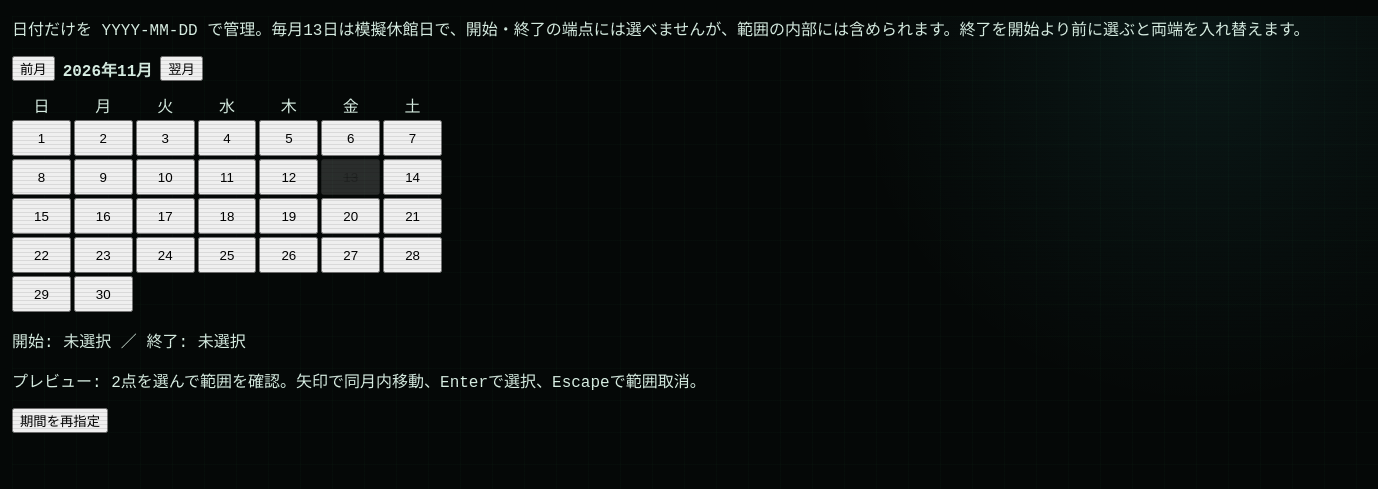
Test case: zero-padded date-only comparison handles reverse year crossing
The width and height of the screenshot is (1378, 489).
Click the button "翌月": x=182, y=68 x1=160 y1=56 x2=203 y2=81
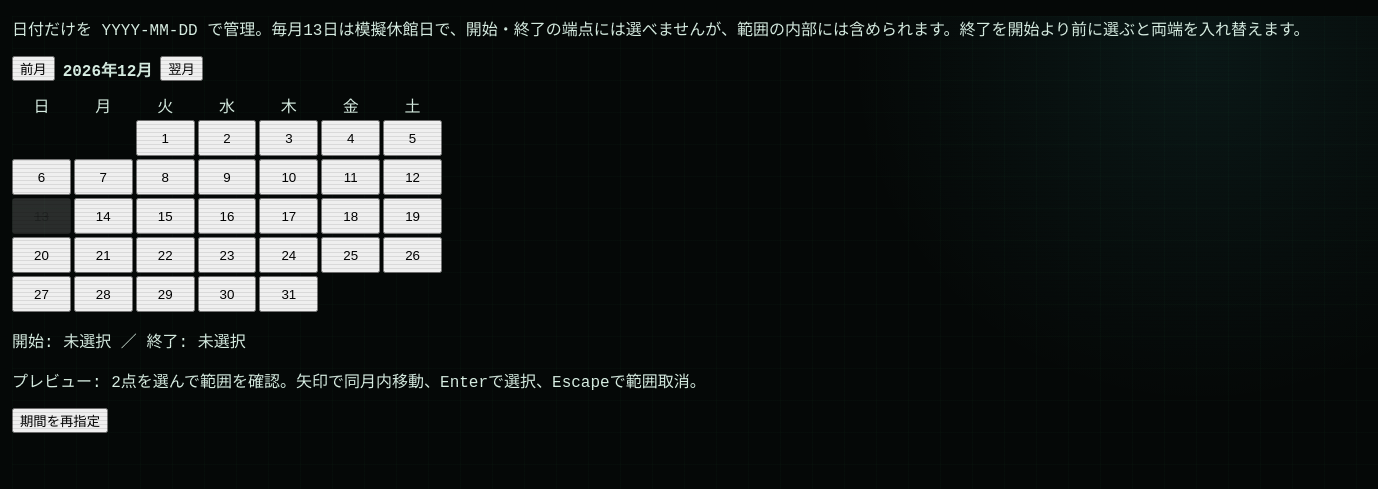
Click the button "翌月": x=182, y=68 x1=160 y1=56 x2=203 y2=81
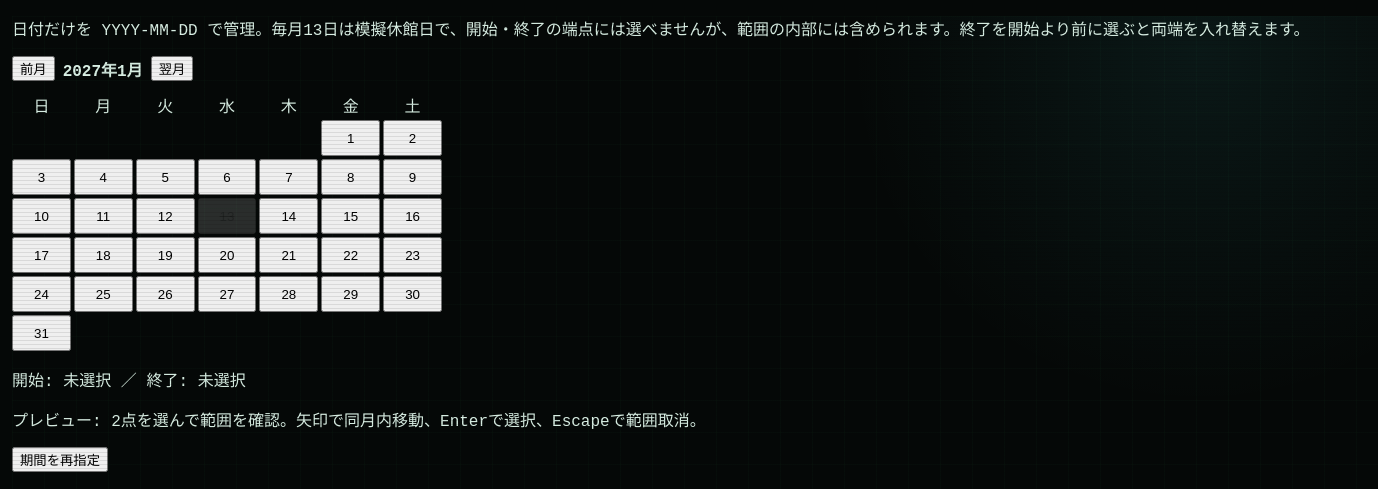
Click the button named "2027-01-02": x=413, y=138 x1=383 y1=120 x2=442 y2=156
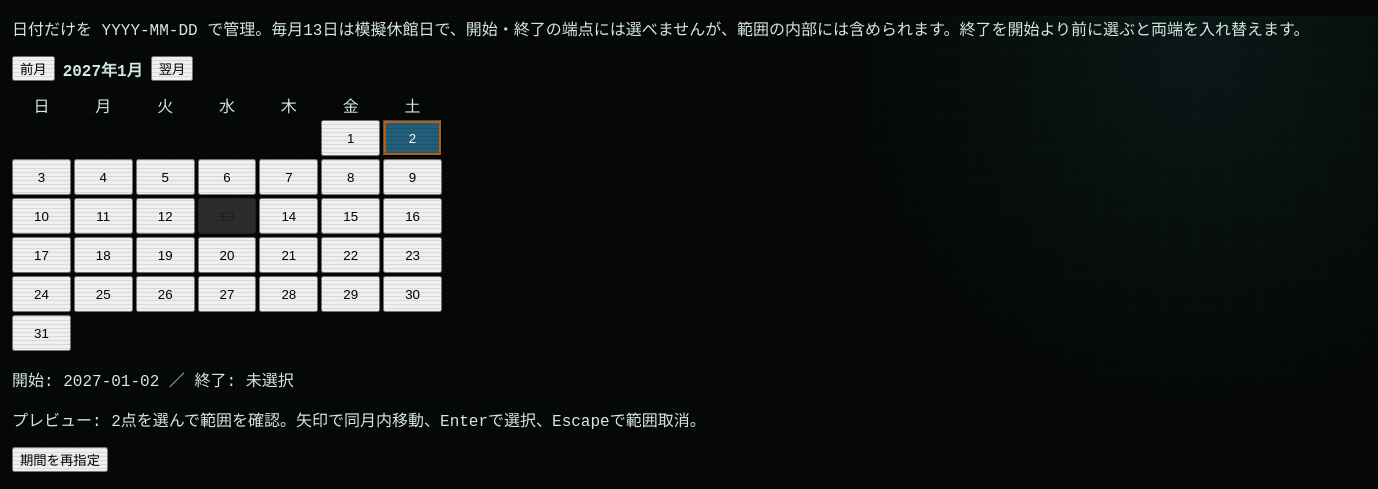
Click the button "前月": x=33, y=68 x1=12 y1=56 x2=55 y2=81
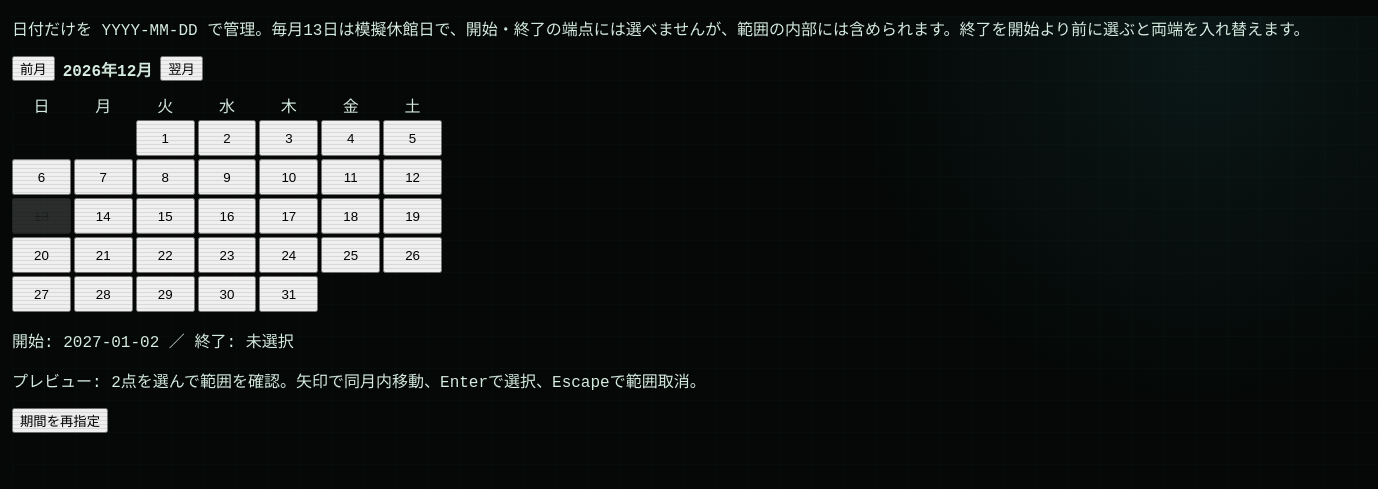
Click the button named "2026-12-30": x=227, y=294 x1=198 y1=276 x2=256 y2=312
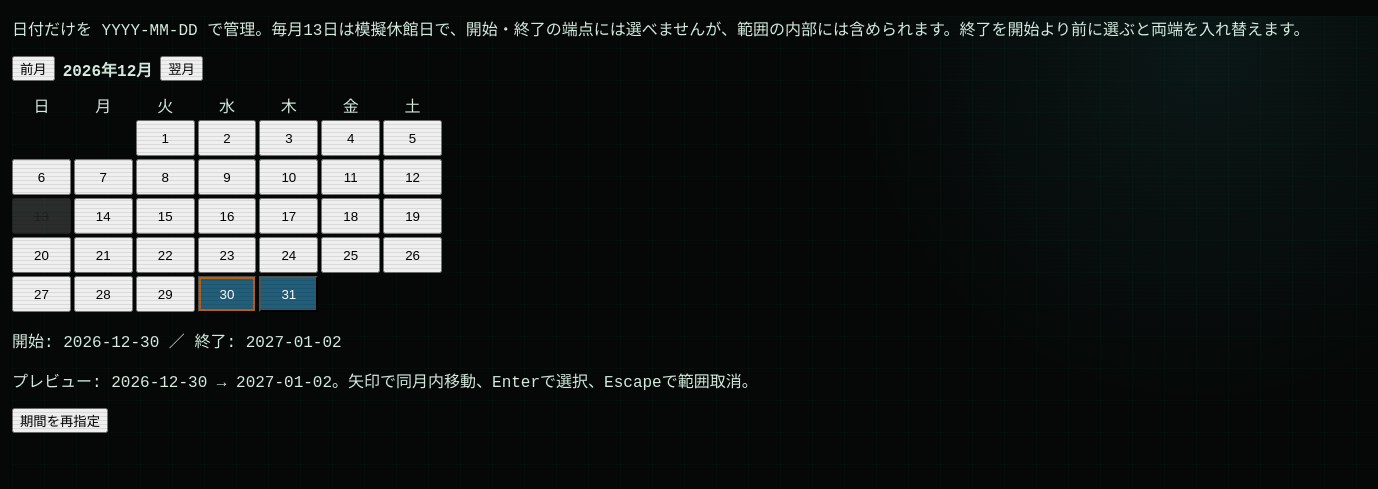
Expected: the message reads "開始: 2026-12-30 ／ 終了: 2027-01-02", x1=12 y1=334 x2=342 y2=352
